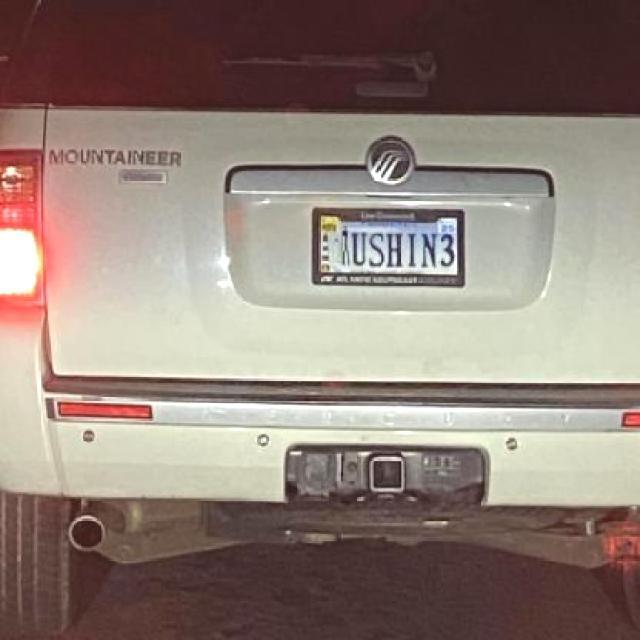LicensePlate: (310, 205, 465, 287)
